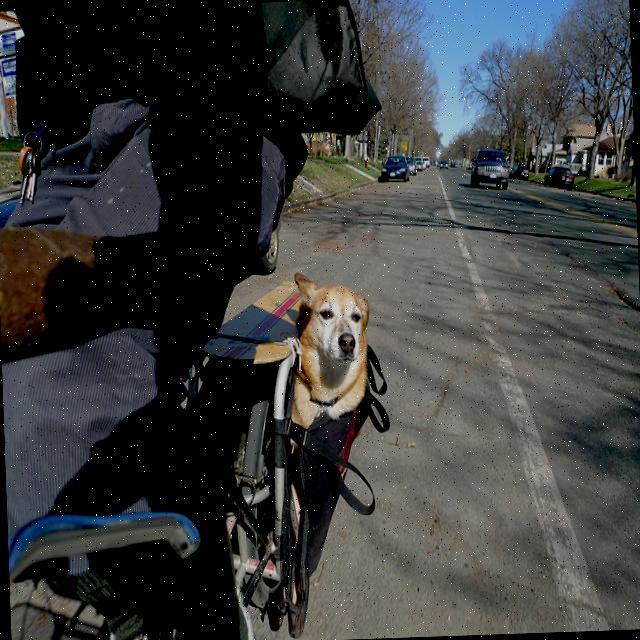fire_hydrant: (363, 156, 368, 168)
